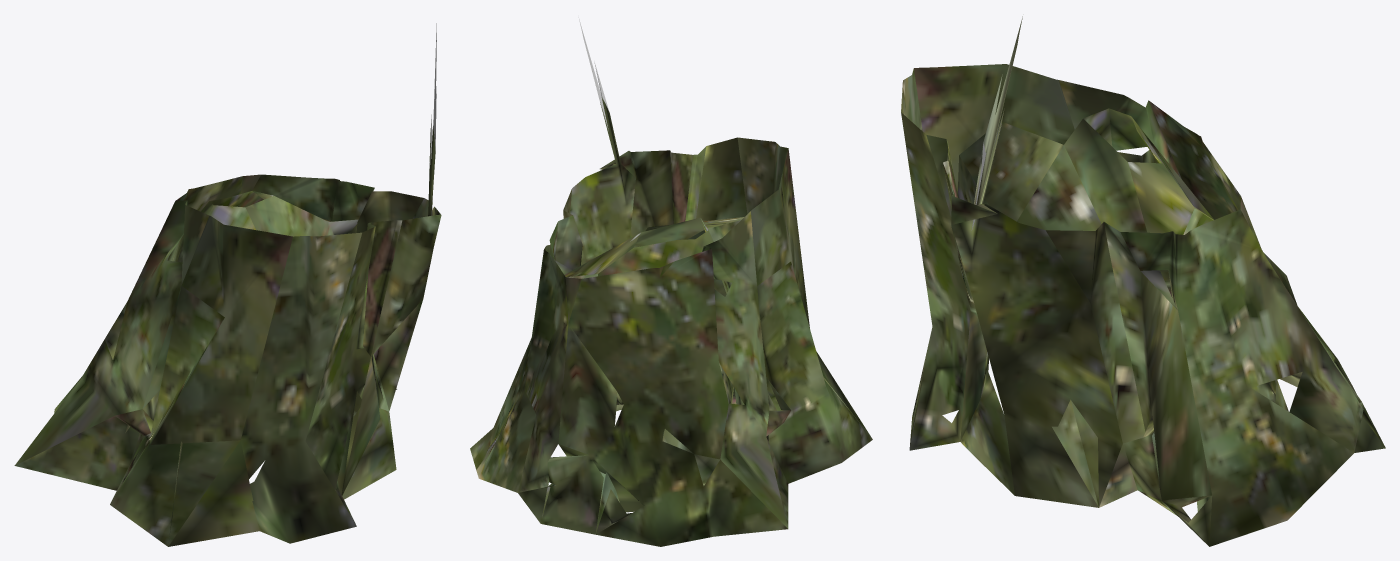
Rendered from SM_ShelledPine_C.fbx.
3 views of the same model, side by side, from view 1: azimuth 30°, elevation 25°; view 2: azimuth 150°, elevation 25°; view 3: azimuth 270°, elevation 25° (orthographic). The views are drawn at different scales.
Visible parts, largest first — view 1: SM_ShelledPine_C; view 2: SM_ShelledPine_C; view 3: SM_ShelledPine_C.
Part boxes in pixels (x1=…): SM_ShelledPine_C: x1=14, y1=23, x2=441, y2=546; SM_ShelledPine_C: x1=470, y1=17, x2=872, y2=546; SM_ShelledPine_C: x1=901, y1=16, x2=1385, y2=546.
Bounding box in the file's own units: 0.7929 × 0.9082 × 0.7803.
